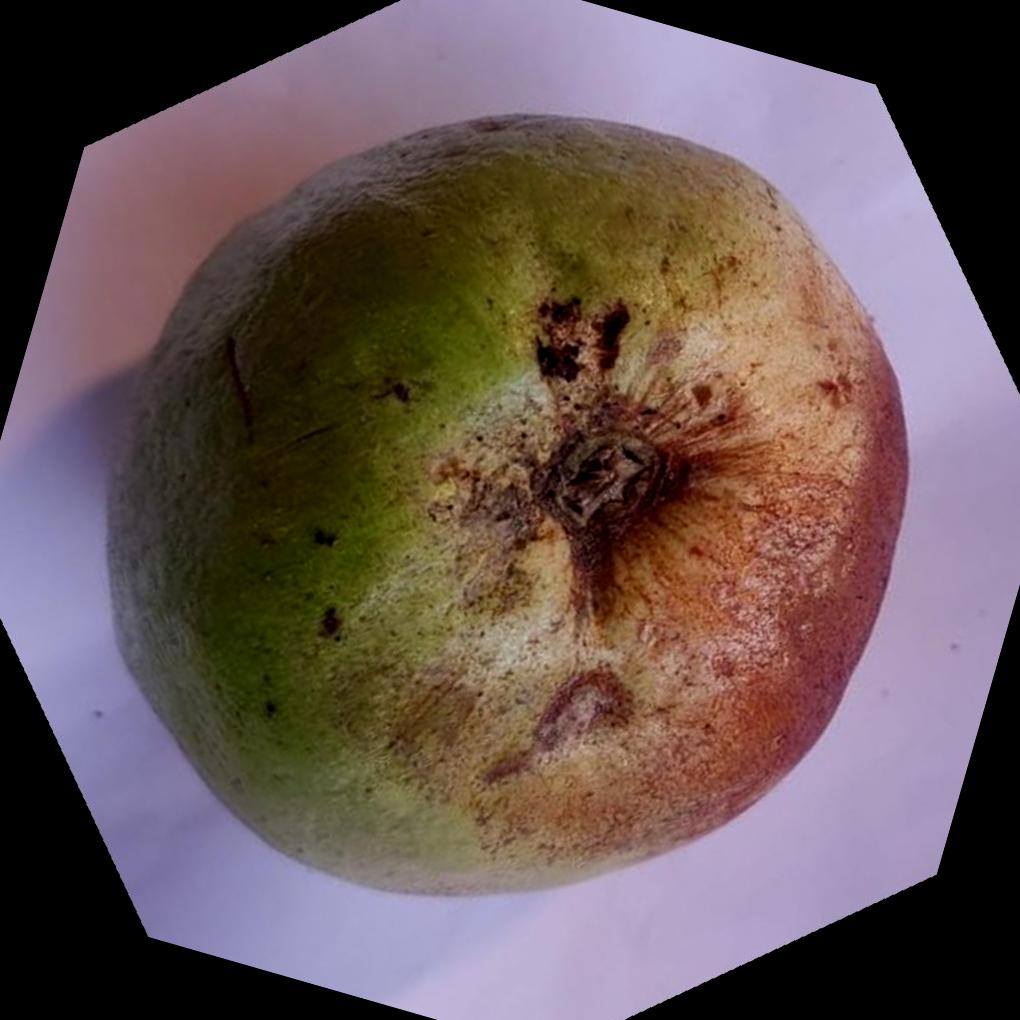FreshOrange: (101, 115, 909, 903)
